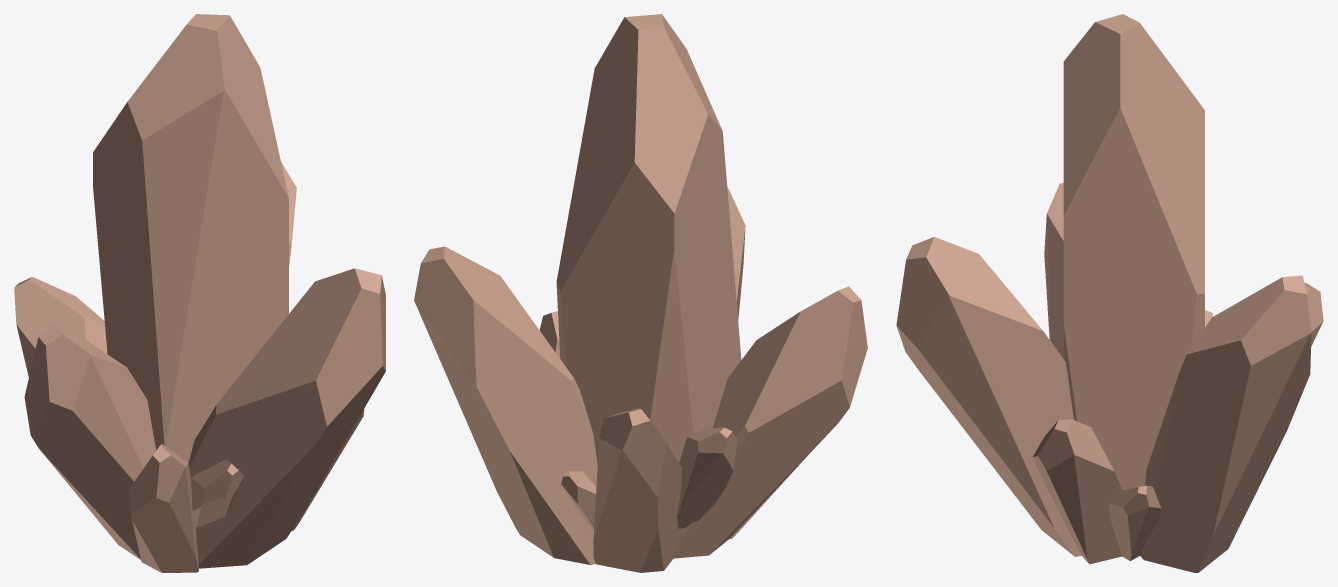
The model's file is crystals_orange.fbx.
The picture shows the model from 3 angles, left to right: view 1: azimuth 30°, elevation 25°; view 2: azimuth 150°, elevation 25°; view 3: azimuth 270°, elevation 25°; orthographic projection.
Visible parts, largest first — view 1: Cube.005; view 2: Cube.005; view 3: Cube.005.
Boxes of the visible parts, box(x1,y1,x2,y2) form: Cube.005: box(14, 14, 385, 572); Cube.005: box(414, 14, 867, 572); Cube.005: box(896, 14, 1323, 572).
Bounding box in the file's own units: 554 × 791 × 604.
